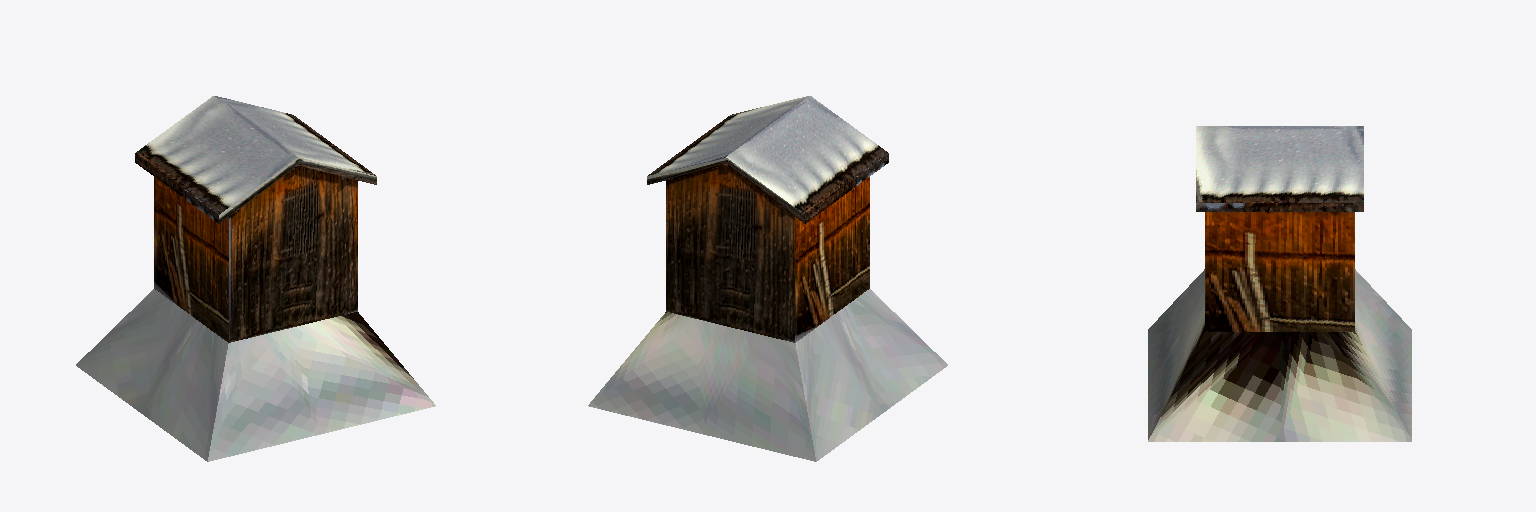
3 renders of one model, left to right at view 1: azimuth 30°, elevation 25°; view 2: azimuth 150°, elevation 25°; view 3: azimuth 270°, elevation 25°, orthographic.
Parts seen in each view (by area): view 1: Cube; view 2: Cube; view 3: Cube.
Part boxes in pixels (left/top/right/bottom): Cube: left=76, top=96, right=435, bottom=461; Cube: left=588, top=96, right=947, bottom=461; Cube: left=1148, top=126, right=1411, bottom=441.
Size of the model in its own units: 14.28 by 15.46 by 14.28.
1 materials, 1 textured.